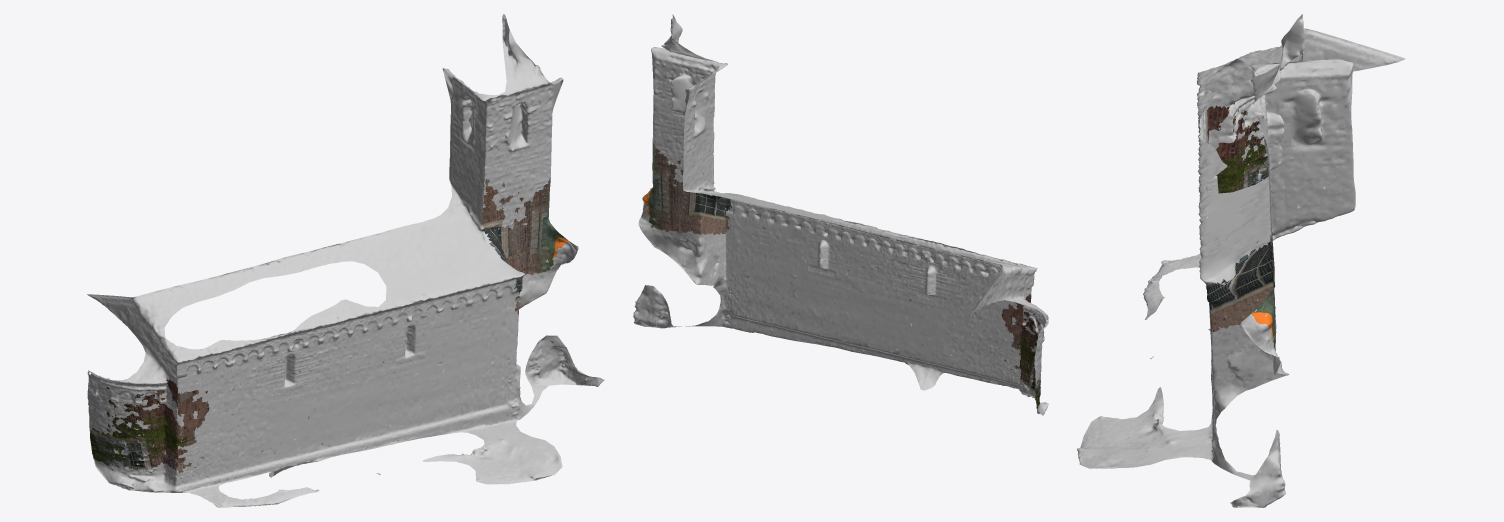
The model's file is meshWithTexture.fbx.
3 views of the same model, side by side, from view 1: azimuth 30°, elevation 25°; view 2: azimuth 150°, elevation 25°; view 3: azimuth 270°, elevation 25° (orthographic). The views are drawn at different scales.
Visible parts, largest first — view 1: scene_dense_mesh_refine_texture; view 2: scene_dense_mesh_refine_texture; view 3: scene_dense_mesh_refine_texture.
Part boxes in pixels (bbox=[...]): scene_dense_mesh_refine_texture: bbox=[87, 14, 604, 507]; scene_dense_mesh_refine_texture: bbox=[633, 14, 1048, 415]; scene_dense_mesh_refine_texture: bbox=[1077, 14, 1405, 507].
Bounding box in the file's own units: 9140 × 7156 × 5442.
